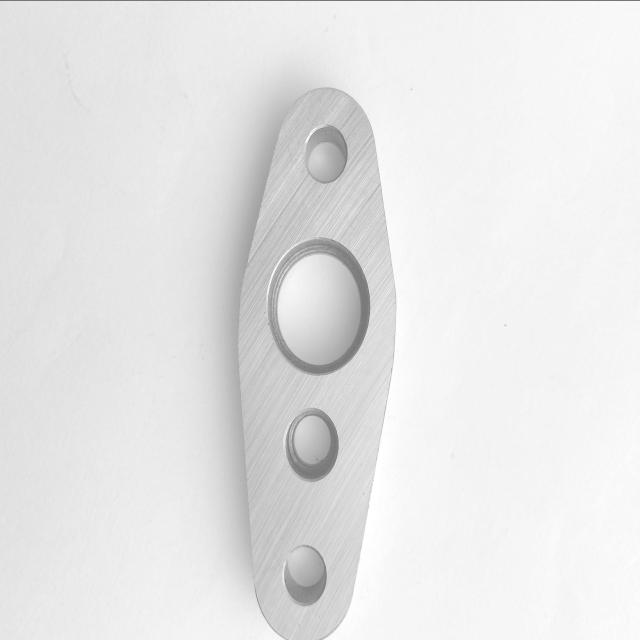chap: (316, 540, 324, 548)
